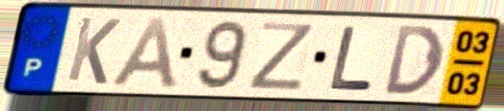9: (193, 18, 251, 92)
A: (108, 15, 182, 91)
D: (383, 23, 447, 97)
K: (63, 14, 124, 87)
L: (326, 24, 377, 93)
Z: (244, 20, 317, 93)
